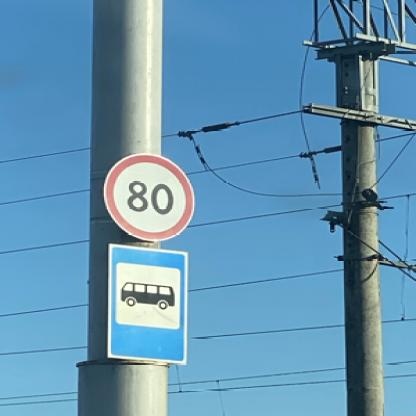Speed Limit 80: (104, 155, 197, 240)
